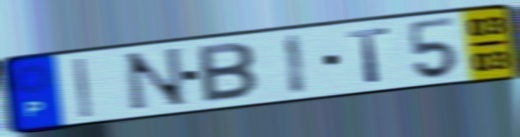5: (404, 14, 462, 82)
B: (195, 40, 260, 106)
I: (283, 31, 310, 97), (71, 56, 95, 120)
N: (121, 45, 192, 115)
T: (344, 25, 393, 85)
